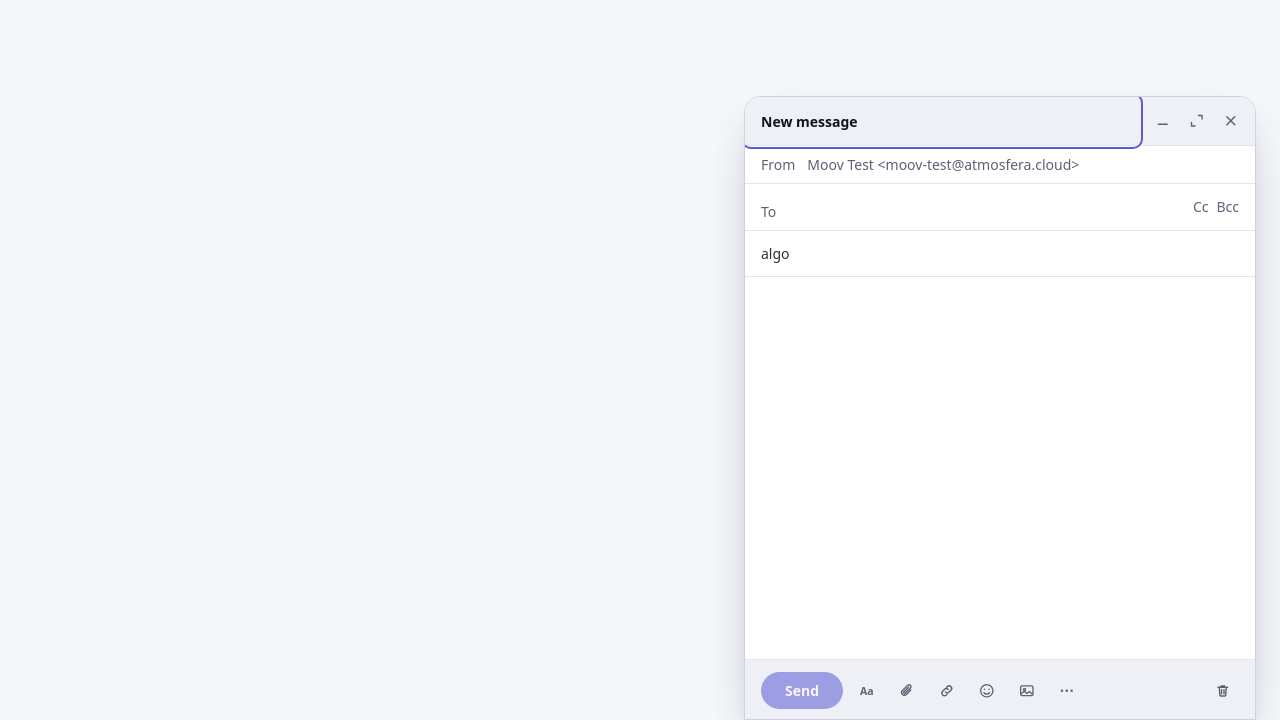
Test: D-02 — discard is a trash icon isolated at the right › still confirms before destroying a draft that has content
Click the button named "Discard" at (1223, 690), box x1=1207 y1=674 x2=1239 y2=706
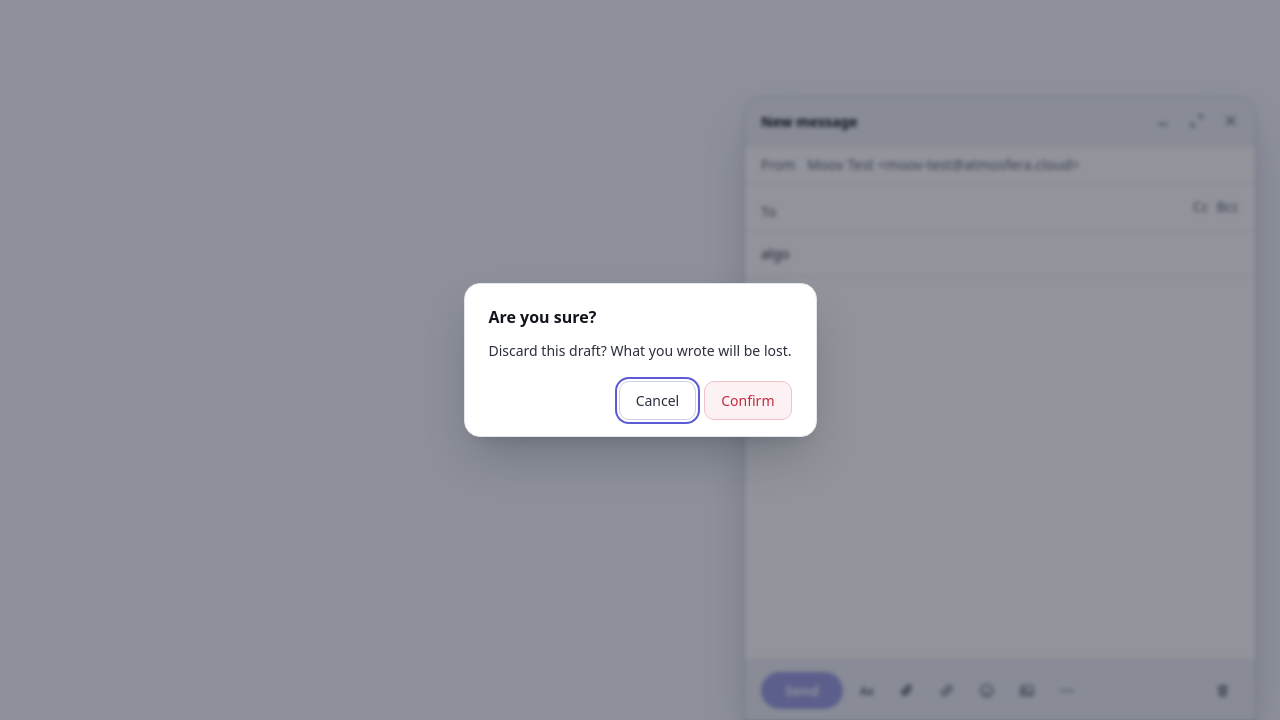
Now the text "Discard this draft? What you wrote will be lost." is shown, box x1=488 y1=340 x2=792 y2=361
